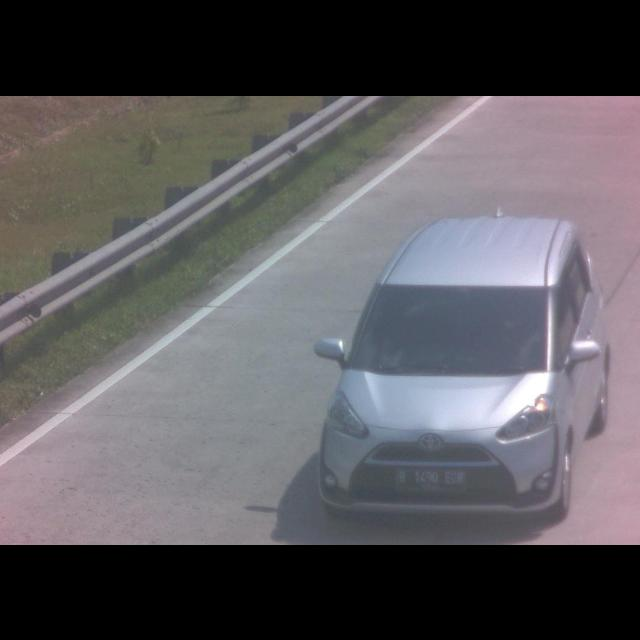plate: (394, 467, 466, 493)
